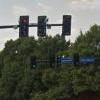Tree: (7, 44, 68, 100)
